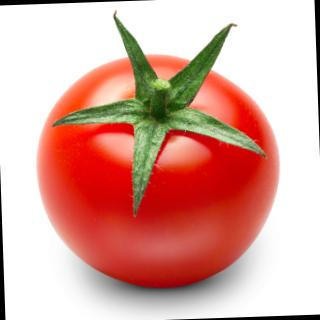Tomat: (32, 7, 286, 293)
